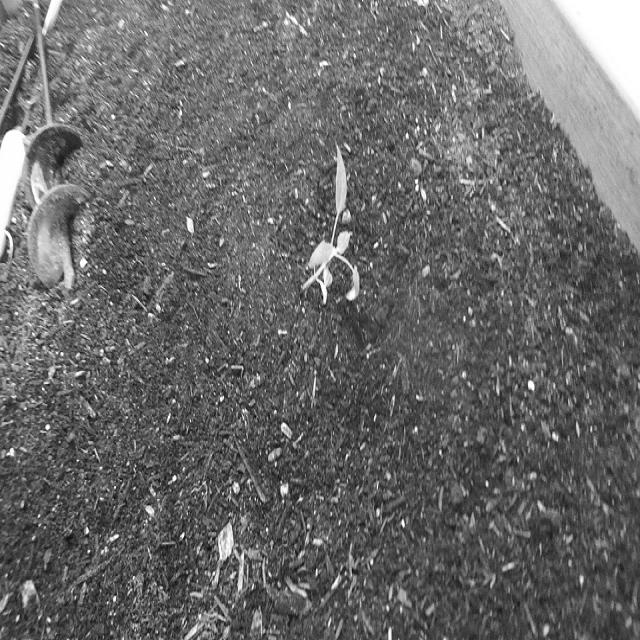Healthy: (301, 141, 361, 316)
